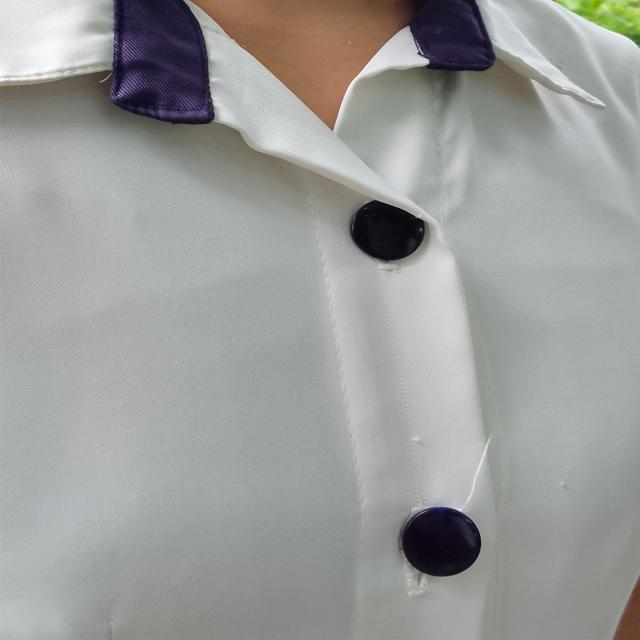education_female_uniform: (6, 1, 640, 607)
